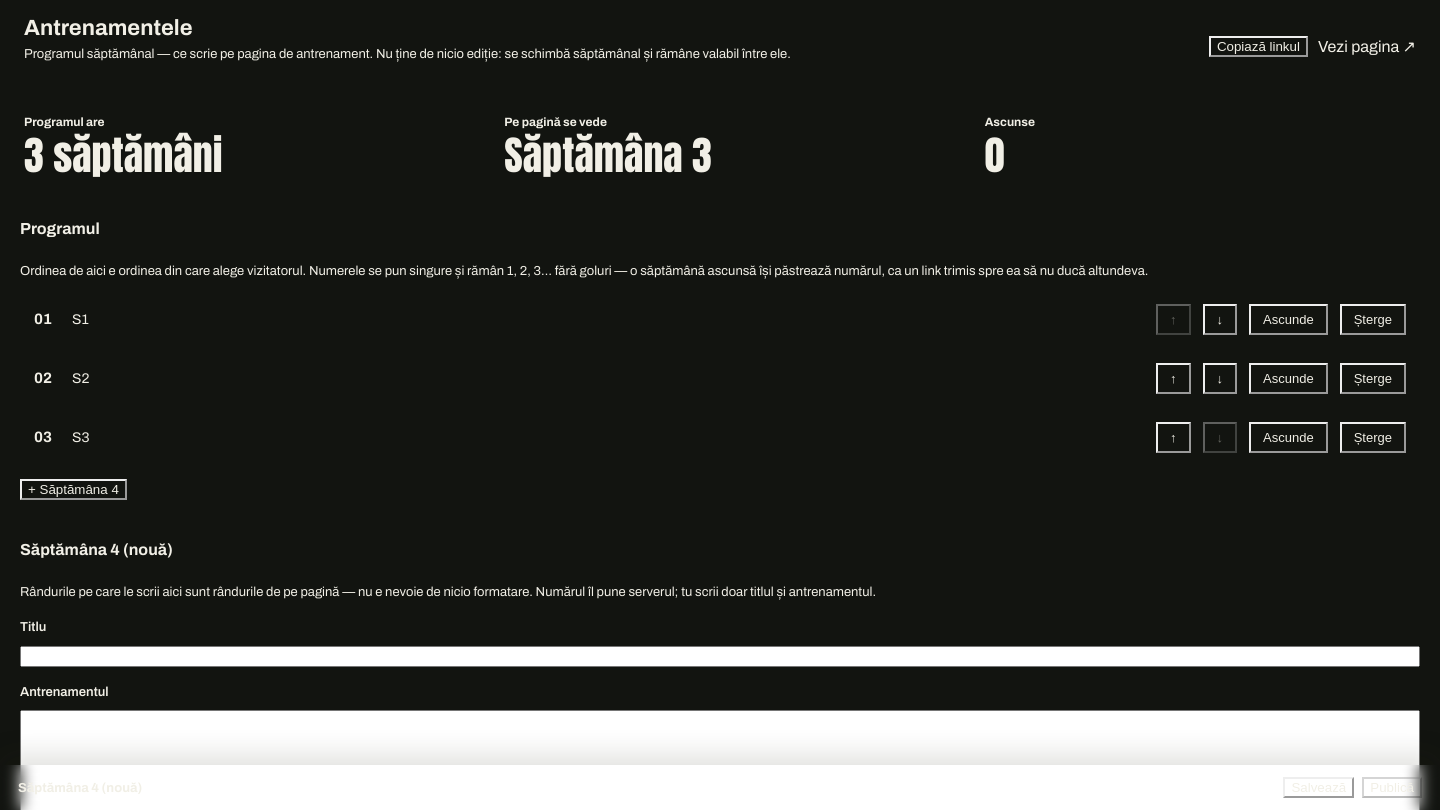
Test: ștergerea › cere confirmare și nu cheamă serverul până nu o primește
The image size is (1440, 810).
Expected: the button "S2" is shown, [72,365,1144,392]
Click the button with aria-label "Șterge săptămâna 2" at (1373, 378), box [1340,363,1406,394]
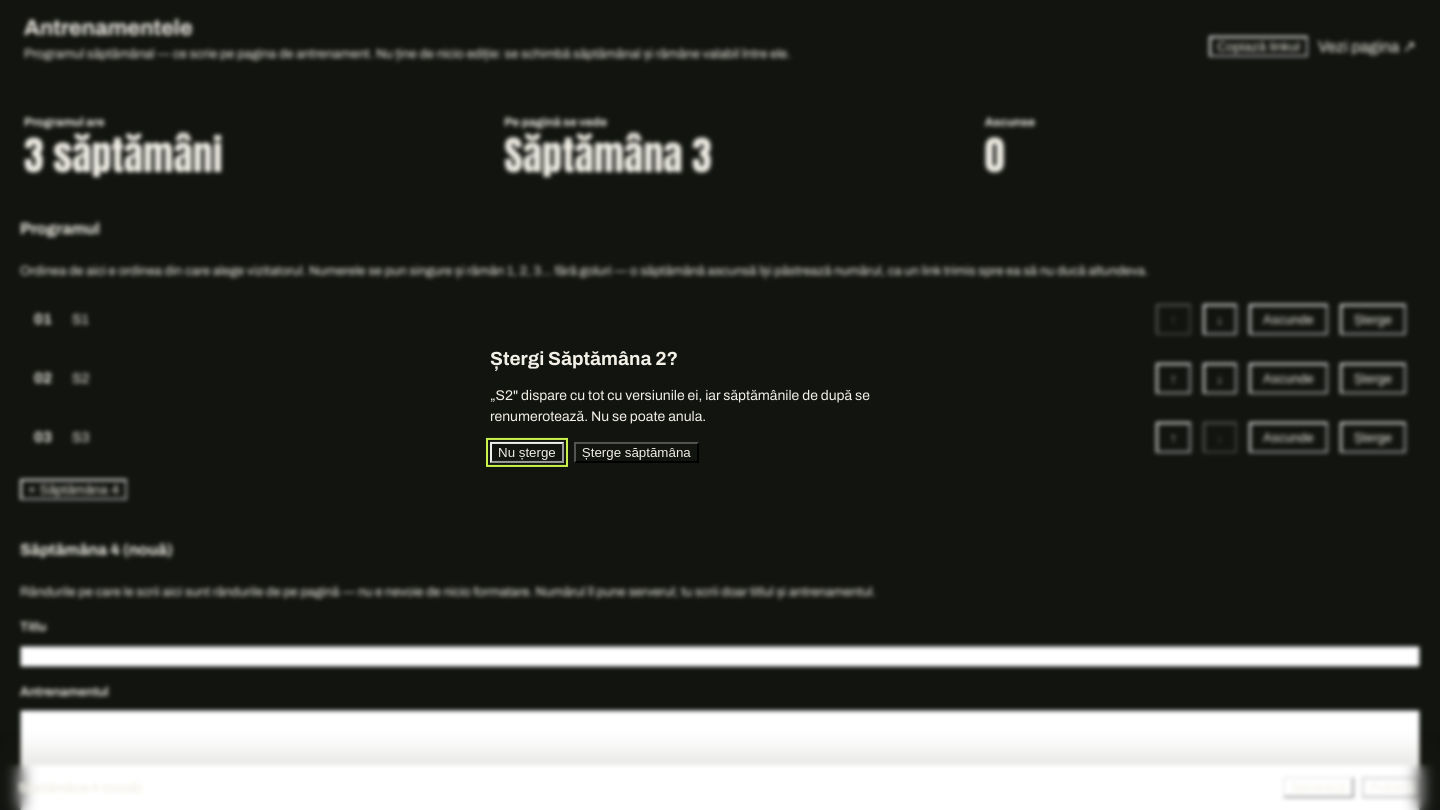
Expected: the dialog "Ștergi Săptămâna 2" is shown, [490,348,870,463]
